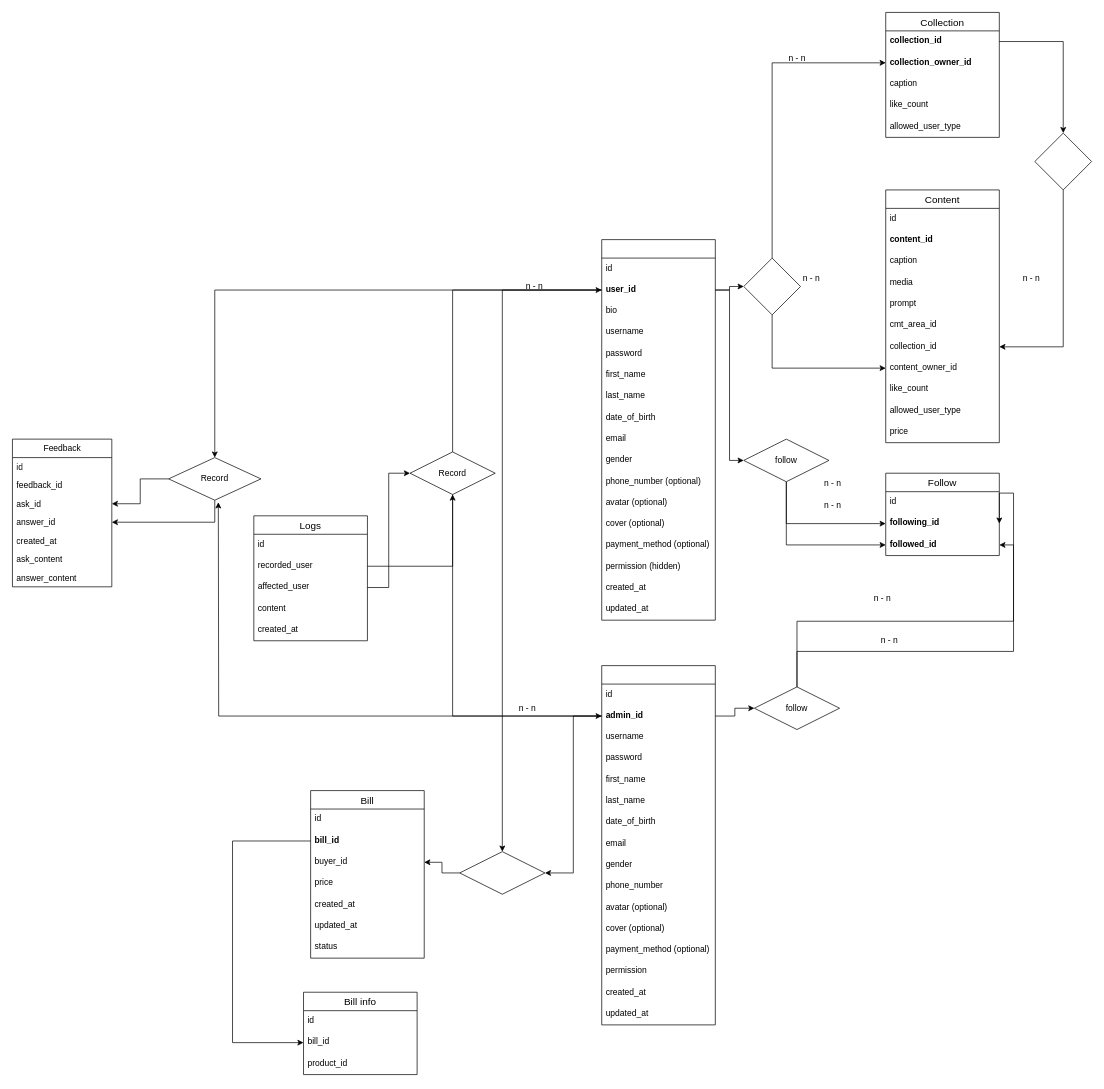
Some shapes in this 1104 by 1089 pixel diagram are drawn without their labels. The shapes that lost their labels are listed below. From the top down, each one's box as (x1, y1, x2, y2) in pixels, then its label:
(1034, 132, 1092, 190): contain
(743, 257, 801, 315): own
(601, 239, 715, 620): Normal_user
(601, 665, 715, 1025): admins
(459, 851, 545, 894): Buy
